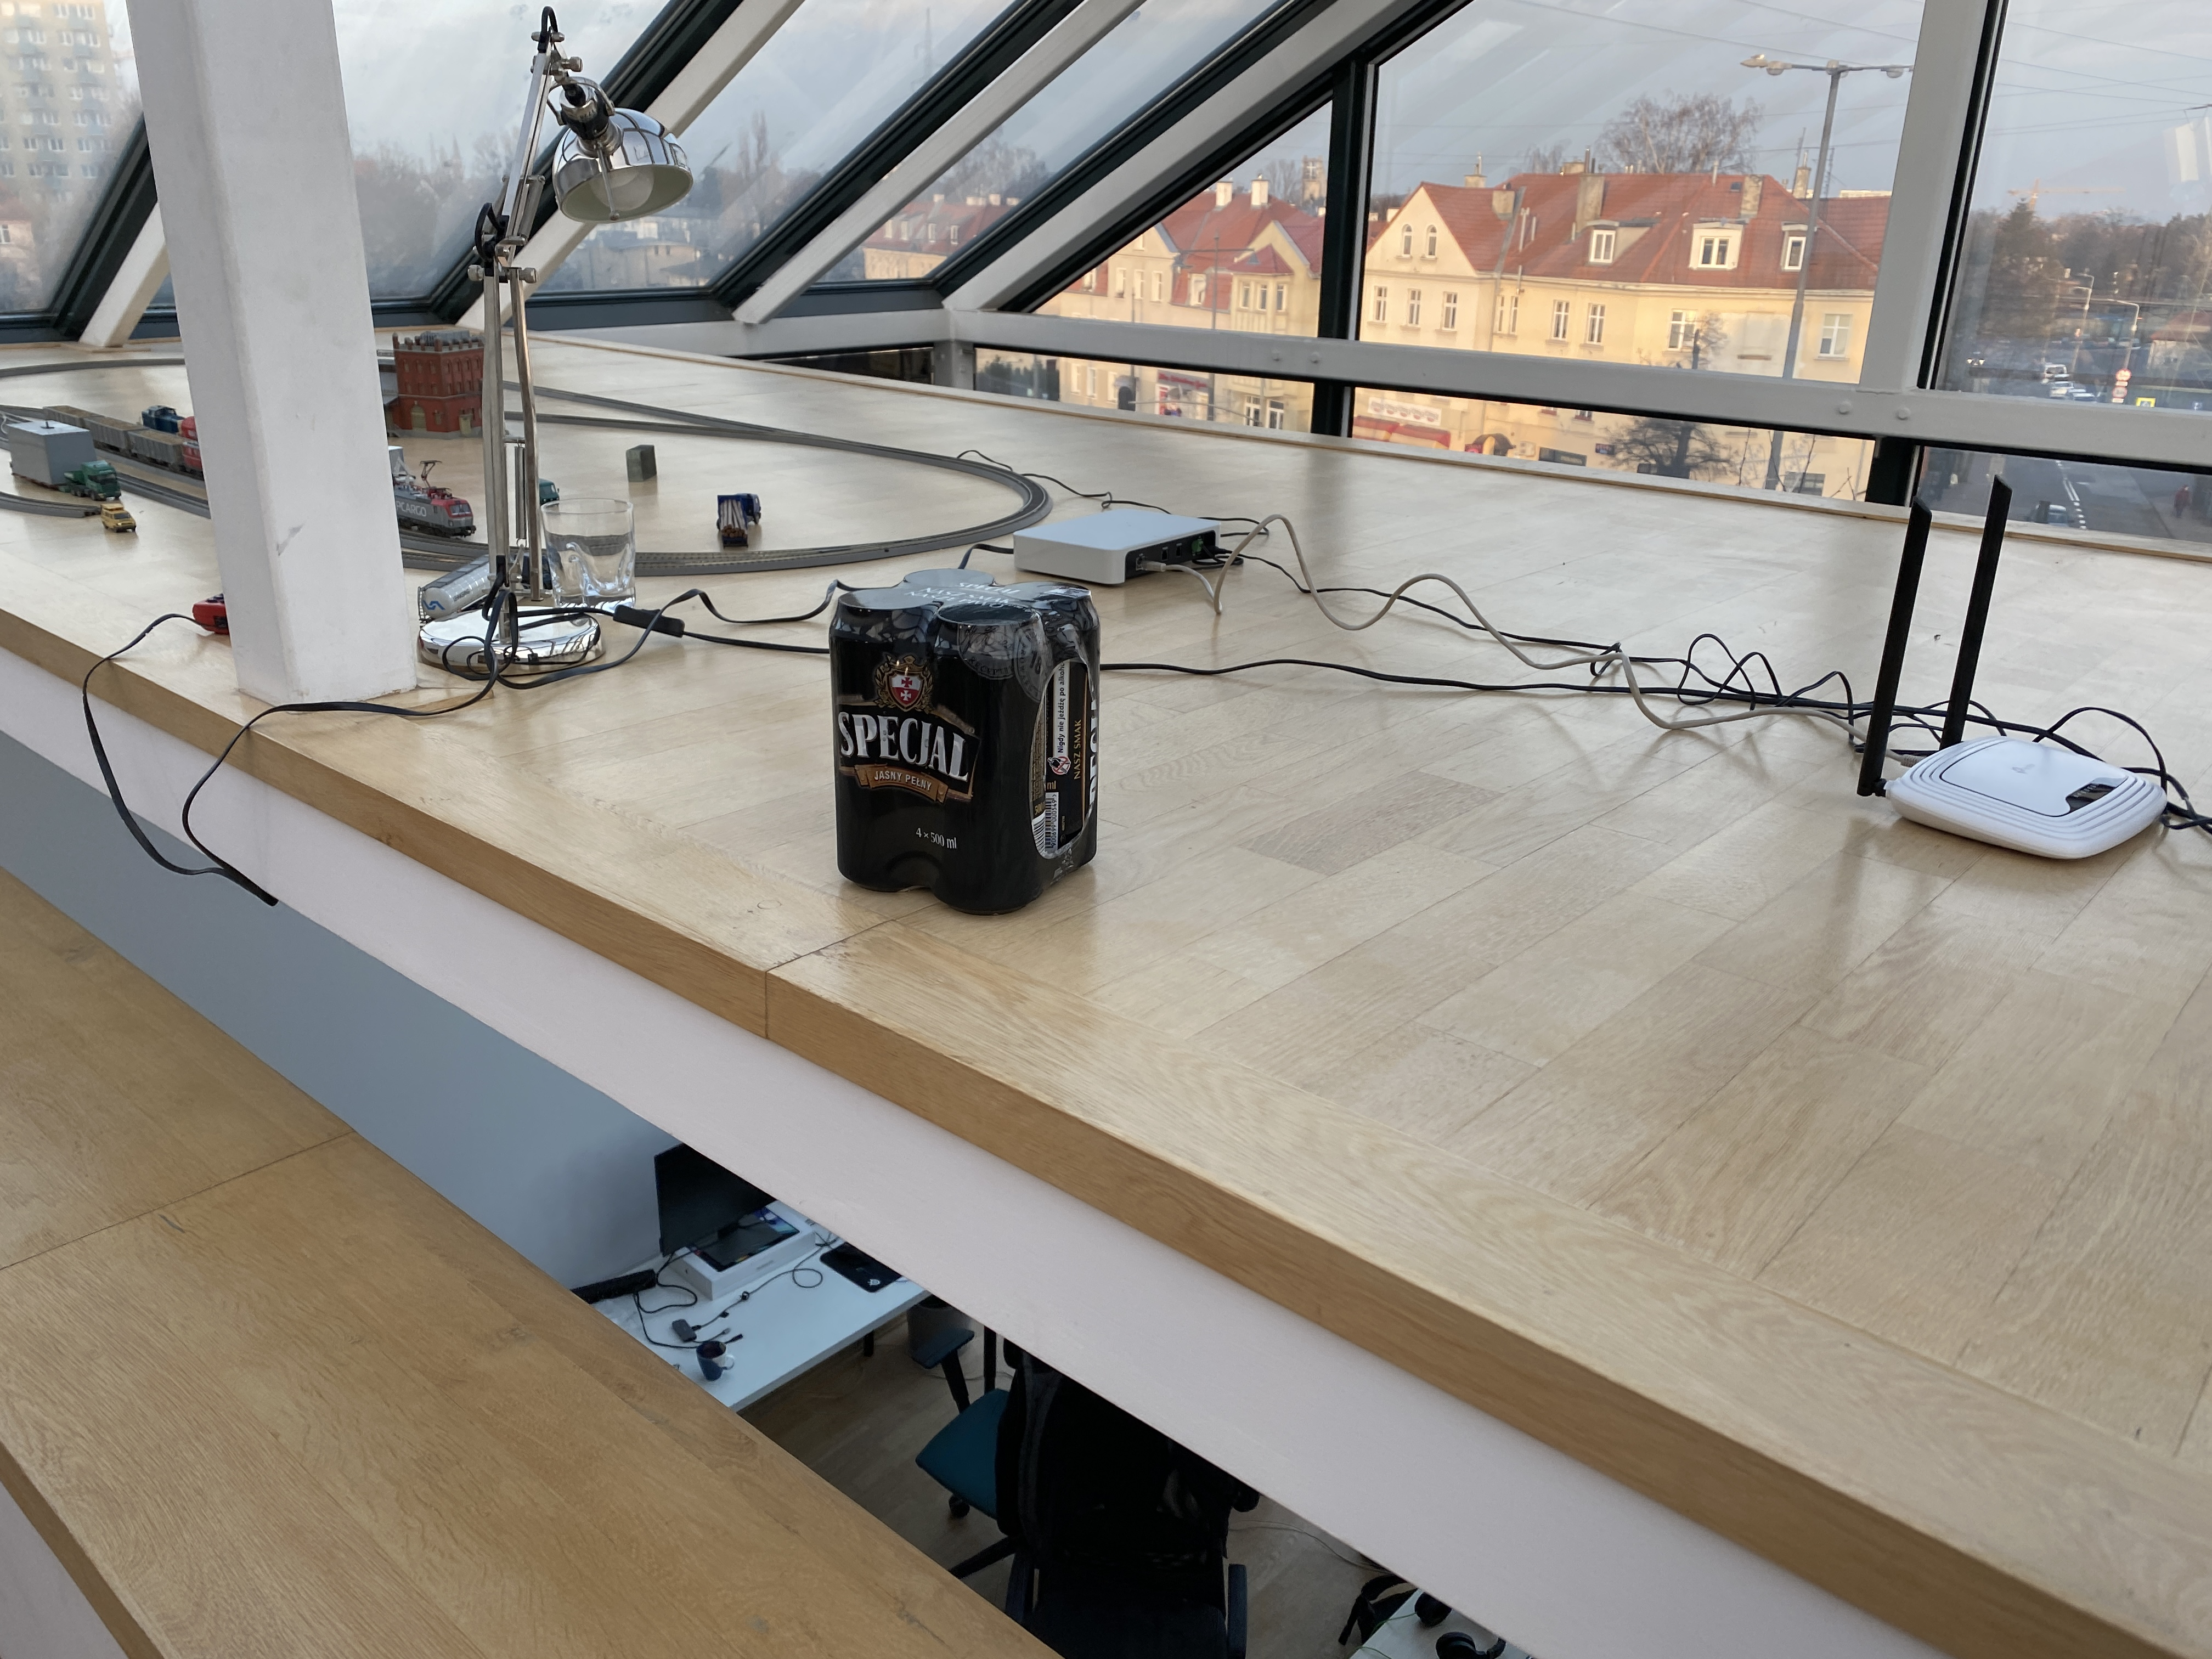specjal: (833, 575, 1108, 918)
